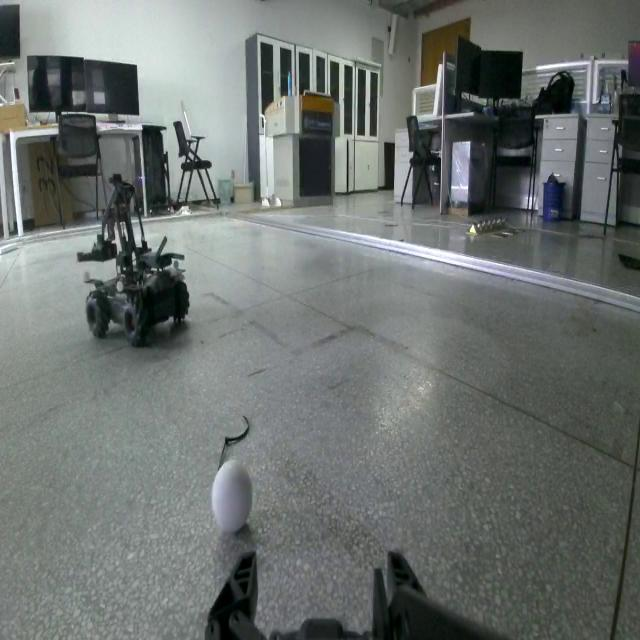ball1: (210, 460, 254, 534)
ep: (76, 171, 190, 352)
